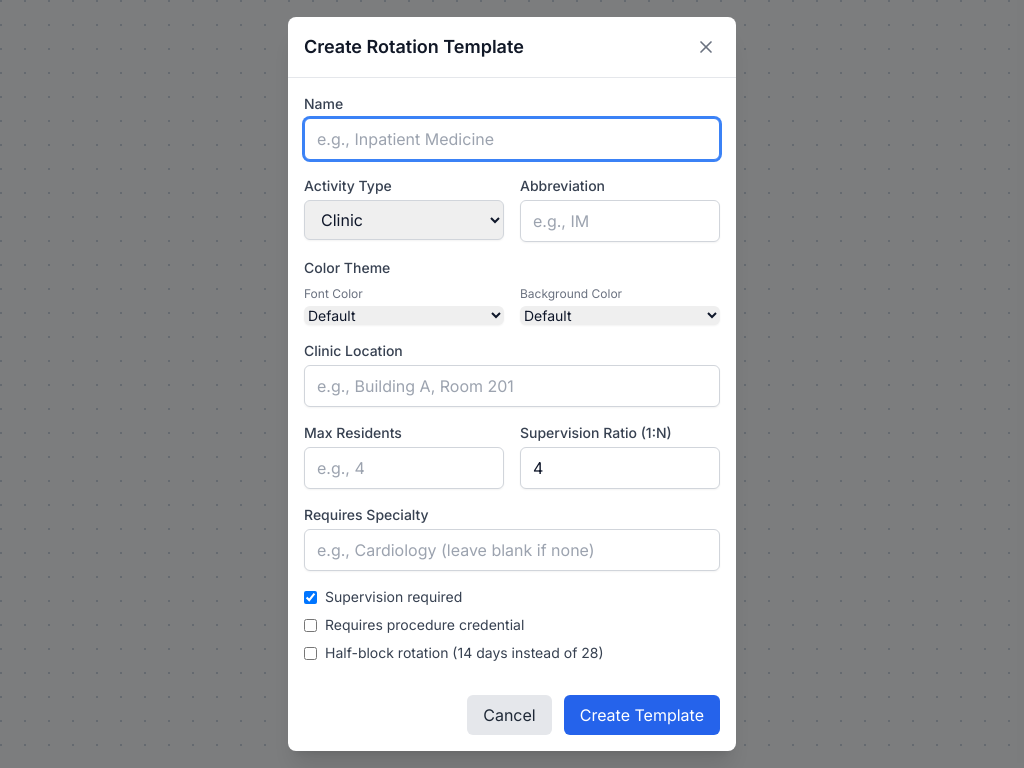
Test: CreateTemplateModal › Form Validation › should validate supervision ratio is between 1 and 10
Type "Test Template" into the field with placeholder "e.g., Inpatient Medicine". click: (512, 139)
box: [304, 118, 720, 160]
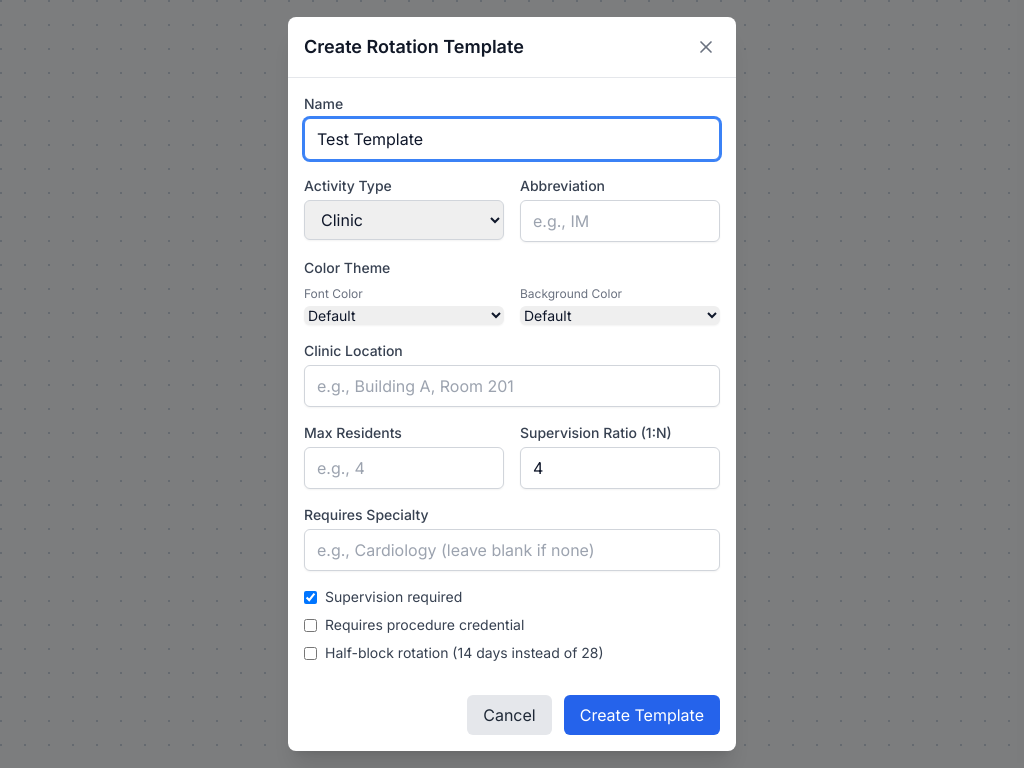
Replace the text in the number field labelled "Supervision Ratio (1:N)" with "15". click: (620, 468)
box: [520, 447, 720, 489]
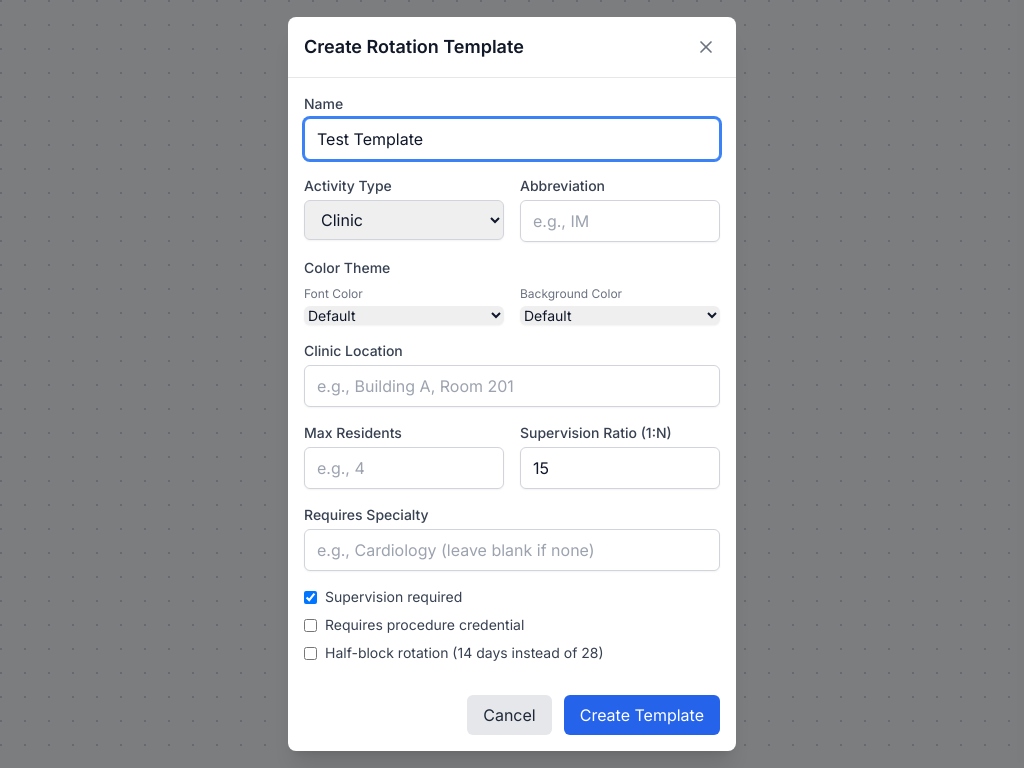
Submit the form, box [304, 94, 720, 735]
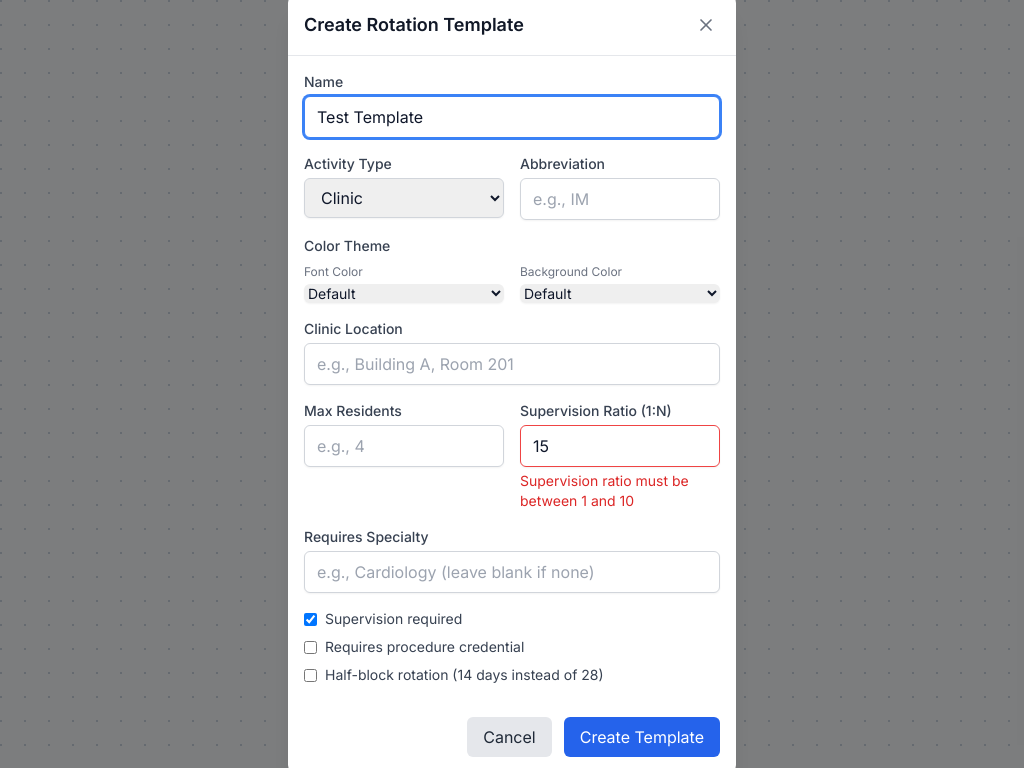
Check: the text "Supervision ratio must be between 1 and 10" is shown, box [520, 472, 689, 509]
